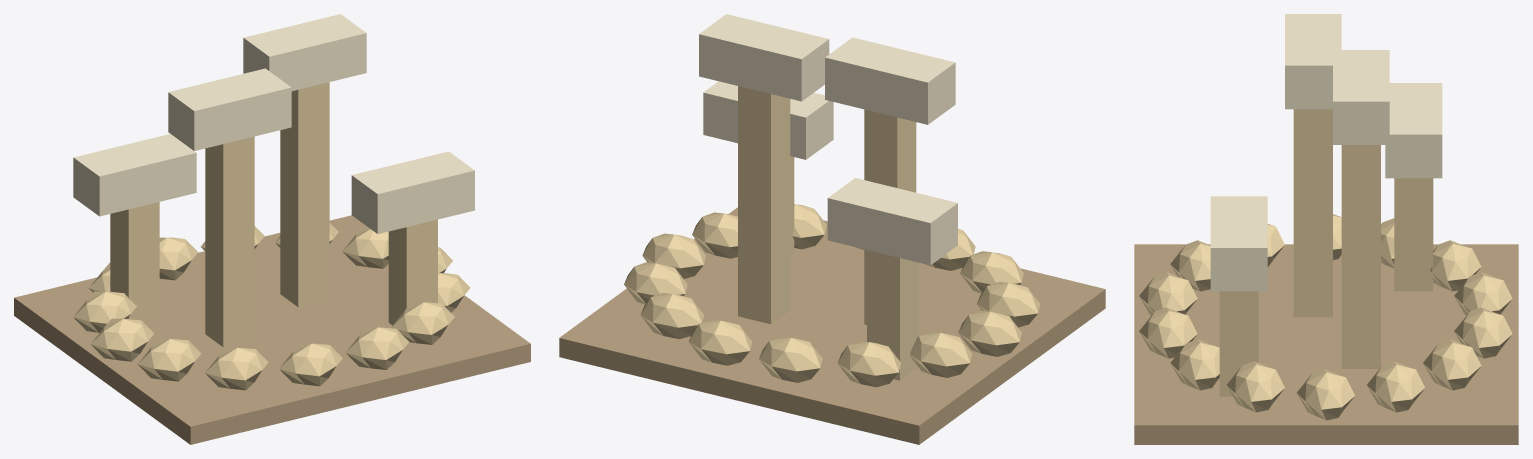
The model's file is gobekli-tepe-monumental-buildings.8fb884143154.glb.
The picture shows the model from 3 angles, left to right: view 1: azimuth 30°, elevation 25°; view 2: azimuth 150°, elevation 25°; view 3: azimuth 270°, elevation 25°; orthographic projection. The views are drawn at different scales.
Visible parts, largest first — view 1: gobekli-tepe-monumental-buildings; view 2: gobekli-tepe-monumental-buildings; view 3: gobekli-tepe-monumental-buildings.
Boxes of the visible parts, <box> form: gobekli-tepe-monumental-buildings: <box>14,14,530,444</box>; gobekli-tepe-monumental-buildings: <box>559,14,1105,444</box>; gobekli-tepe-monumental-buildings: <box>1134,14,1518,444</box>.
Bounding box in the file's own units: 1 × 0.7471 × 0.8539.
